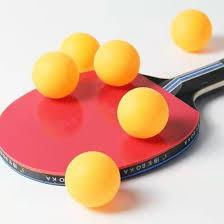ball_pingpong: (63, 149, 124, 210), (116, 87, 172, 140), (93, 38, 142, 88), (33, 51, 83, 99), (170, 7, 215, 53), (57, 31, 102, 75)
